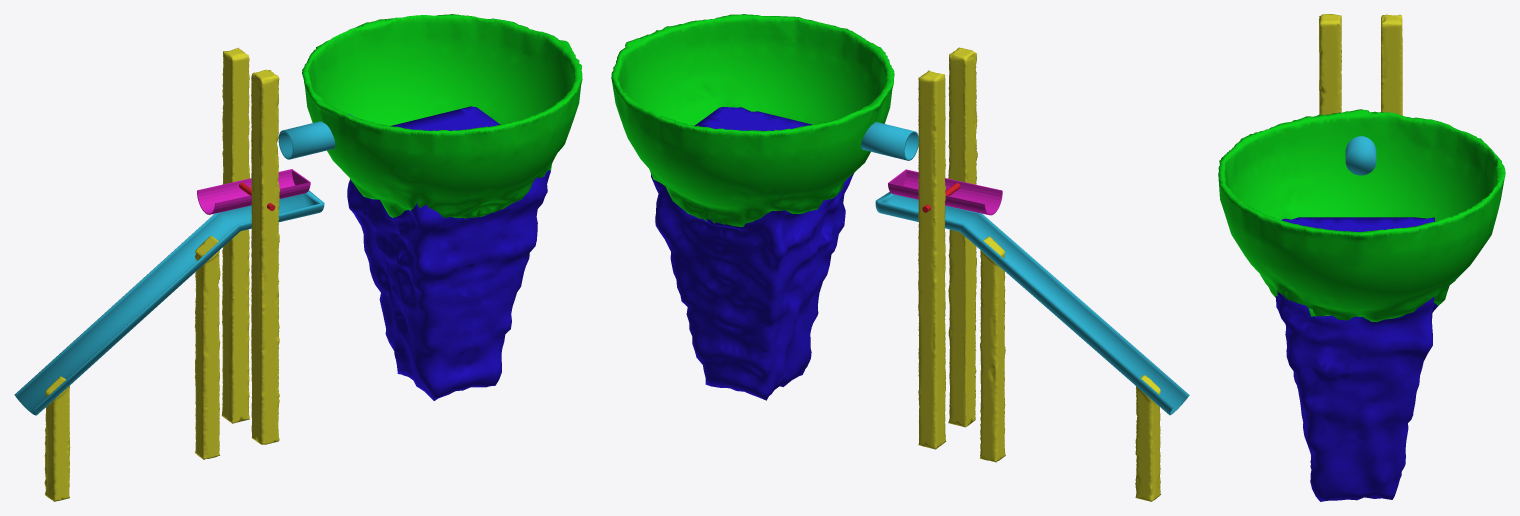
The model's file is waterfeature.fbx.
3 views of the same model, side by side, from view 1: azimuth 30°, elevation 25°; view 2: azimuth 150°, elevation 25°; view 3: azimuth 270°, elevation 25° (orthographic). The views are drawn at different scales.
Visible parts, largest first — view 1: Bowl, Supports, WaterTubes, Tilt; view 2: Bowl, Supports, WaterTubes, Tilt; view 3: Bowl, Supports, WaterTubes.
Boxes of the visible parts, bbox=[...] form: Bowl: bbox=[302, 14, 582, 400]; Supports: bbox=[44, 47, 279, 501]; WaterTubes: bbox=[14, 114, 353, 415]; Tilt: bbox=[197, 169, 310, 214]; Bowl: bbox=[611, 14, 894, 400]; Supports: bbox=[918, 47, 1160, 501]; WaterTubes: bbox=[843, 115, 1189, 415]; Tilt: bbox=[888, 169, 1002, 215]; Bowl: bbox=[1218, 109, 1505, 501]; Supports: bbox=[1319, 14, 1402, 115]; WaterTubes: bbox=[1345, 136, 1376, 175].
Bounding box in the file's own units: 331 × 222 × 147.
